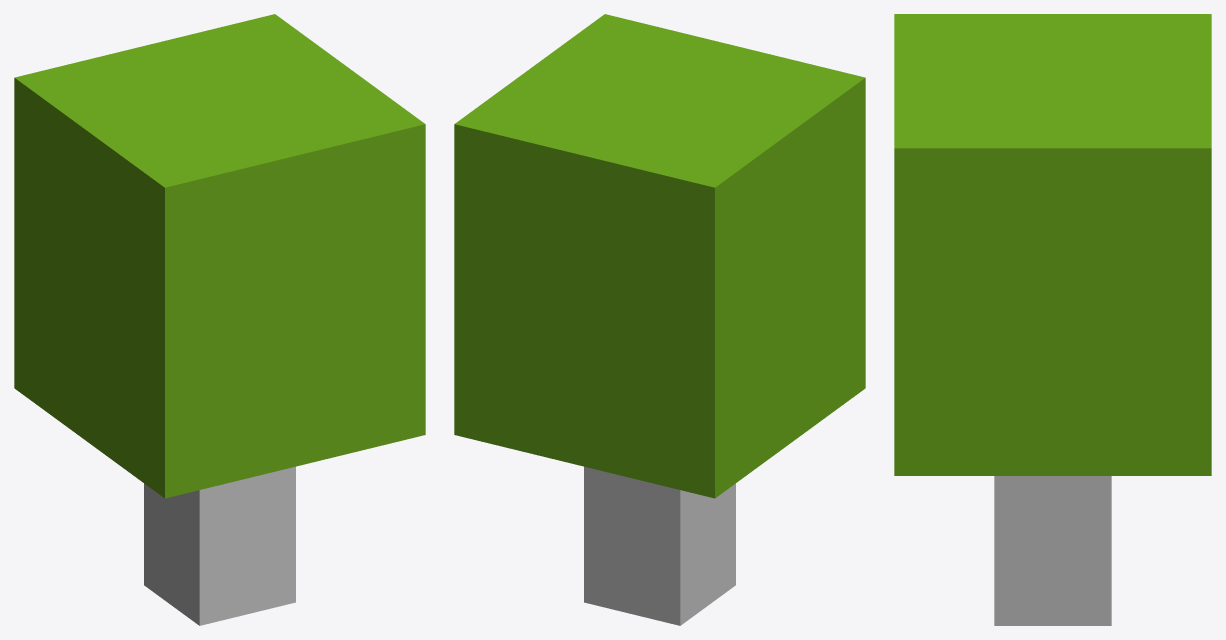
The model's file is tree_3.fbx.
3 views of the same model, side by side, from view 1: azimuth 30°, elevation 25°; view 2: azimuth 150°, elevation 25°; view 3: azimuth 270°, elevation 25° (orthographic). The views are drawn at different scales.
Visible parts, largest first — view 1: Cube.010; view 2: Cube.010; view 3: Cube.010.
Part boxes in pixels (x1=…): Cube.010: x1=14, y1=14, x2=425, y2=625; Cube.010: x1=454, y1=14, x2=865, y2=625; Cube.010: x1=894, y1=14, x2=1211, y2=625.
Bounding box in the file's own units: 60.69 × 110 × 60.69.
